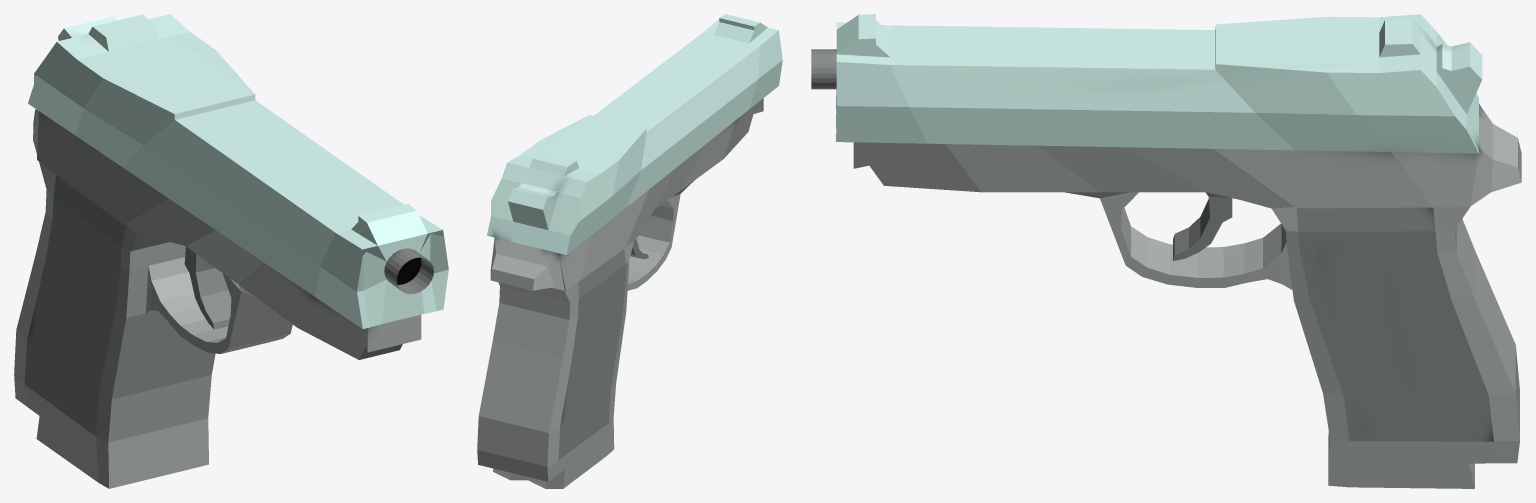
The model's file is TestGun.fbx.
3 renders of one model, left to right at view 1: azimuth 30°, elevation 25°; view 2: azimuth 150°, elevation 25°; view 3: azimuth 270°, elevation 25°, orthographic. The views are drawn at different scales.
Parts seen in each view (by area): view 1: Gun; view 2: Gun; view 3: Gun.
Boxes of the visible parts, x1,y1,x2,y2 form: Gun: [14, 14, 448, 488]; Gun: [477, 14, 782, 488]; Gun: [811, 14, 1521, 488].
Size of the model in its own units: 94.17 by 318 by 460.
